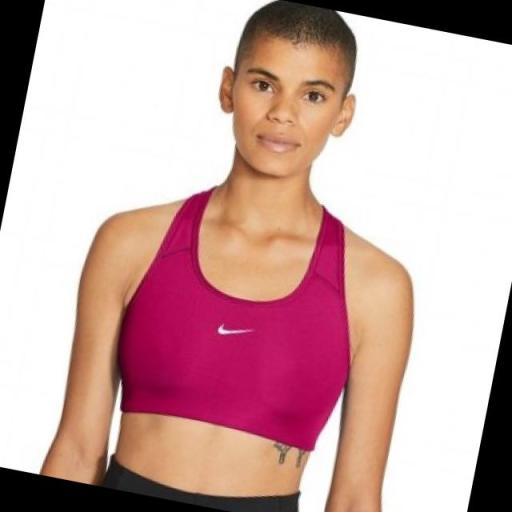Nike: (210, 317, 260, 348)
